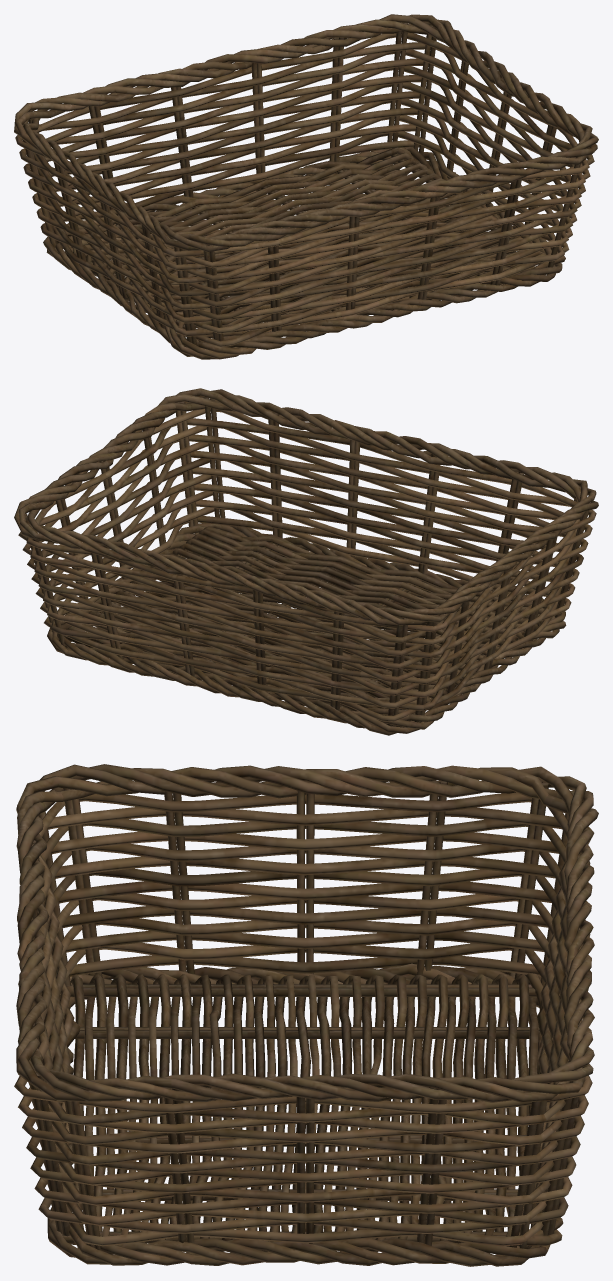
The model's file is wicker_basket_01.glb.
The picture shows the model from 3 angles, top to bottom: view 1: azimuth 30°, elevation 25°; view 2: azimuth 150°, elevation 25°; view 3: azimuth 270°, elevation 25°; orthographic projection. The views are drawn at different scales.
Parts seen in each view (by area): view 1: wicker_basket_01; view 2: wicker_basket_01; view 3: wicker_basket_01.
Boxes of the visible parts, left/top/right/bottom form: wicker_basket_01: left=14, top=14, right=598, bottom=359; wicker_basket_01: left=14, top=388, right=598, bottom=735; wicker_basket_01: left=14, top=764, right=598, bottom=1266.
Size of the model in its own units: 0.3832 by 0.1174 by 0.295.
1 material, 1 textured.
